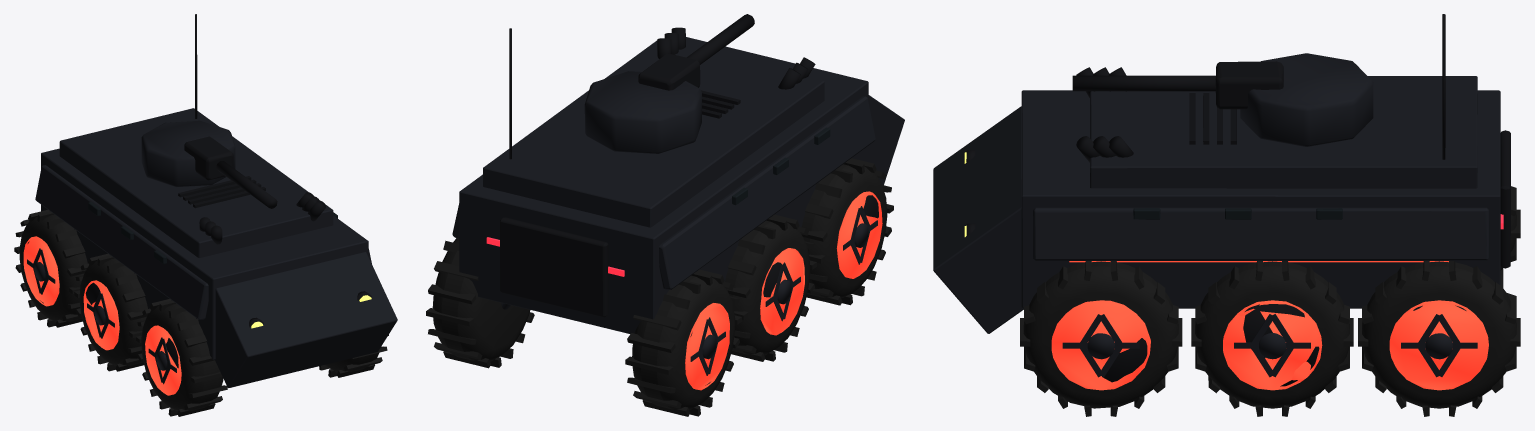
Rendered from apc_nat.glb.
The picture shows the model from 3 angles, left to right: view 1: azimuth 30°, elevation 25°; view 2: azimuth 150°, elevation 25°; view 3: azimuth 270°, elevation 25°; orthographic projection. The views are drawn at different scales.
Visible parts, largest first — view 1: krop_net; view 2: krop_net; view 3: krop_net.
Boxes of the visible parts, x1,y1,x2,y2 form: krop_net: (14,14,397,416); krop_net: (426,14,904,416); krop_net: (933,14,1520,416).
Size of the model in its own units: 1.21 by 1.54 by 2.18.
